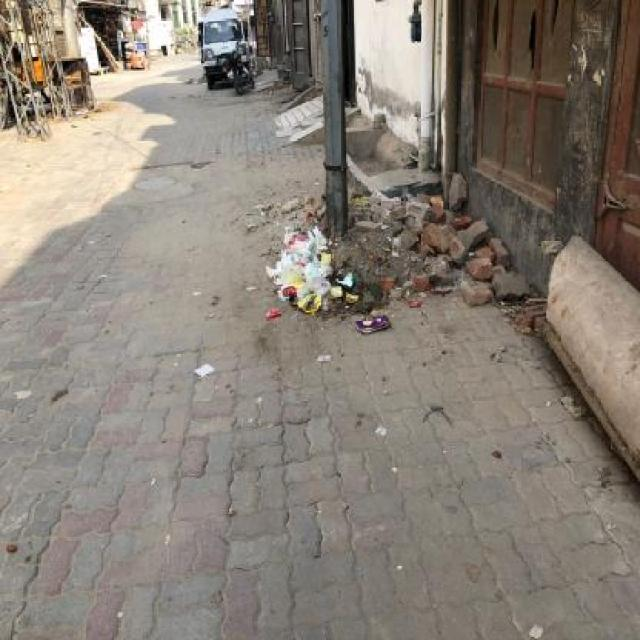garbage: (254, 209, 399, 336)
